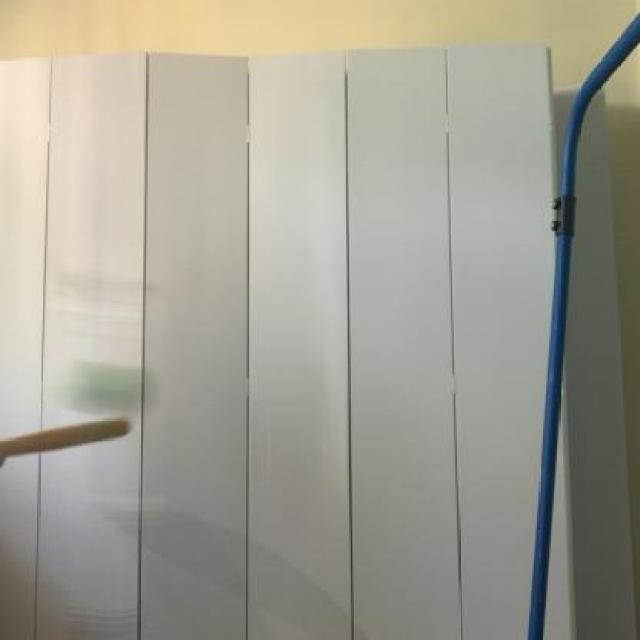baseball: (50, 334, 165, 428)
